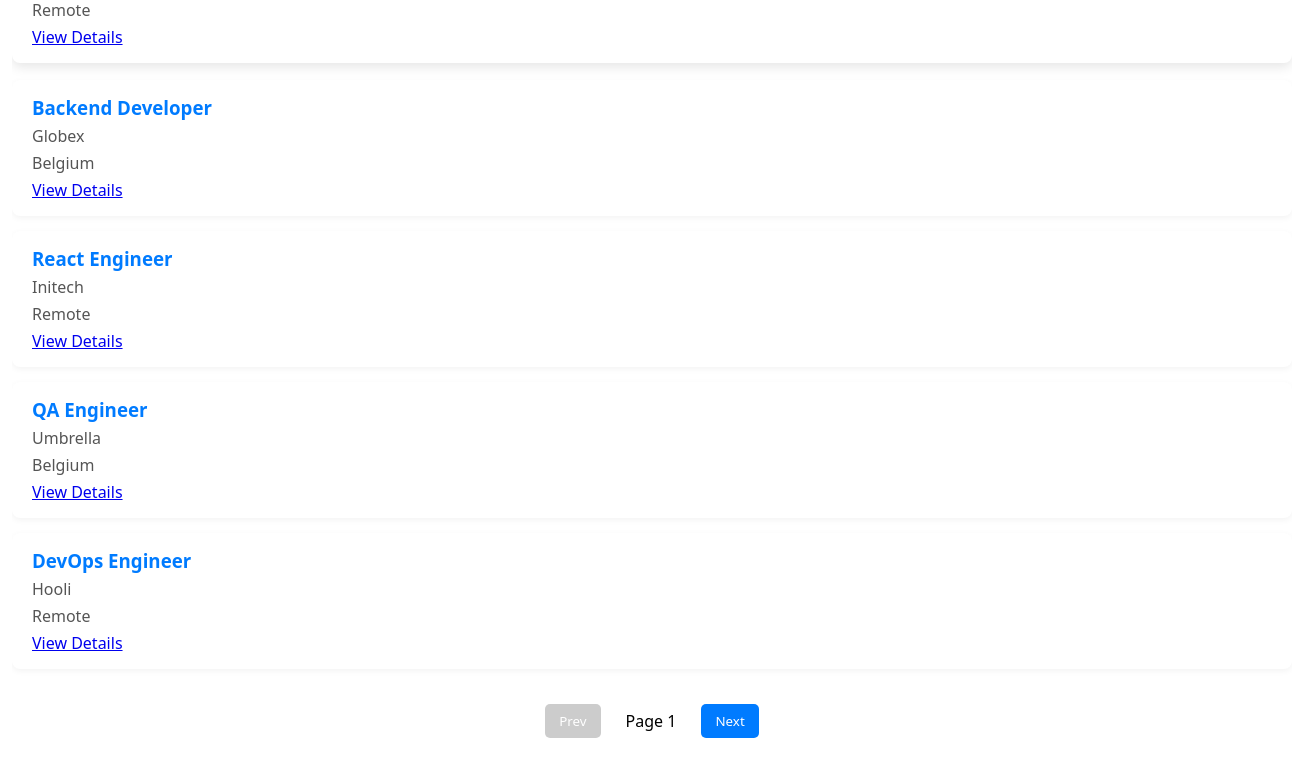
JobList › shows 5 jobs per page and lets you go to the next page
(page scrolled)
Expected: the number of links "View Details" is 5, [32, 26, 122, 48]; [32, 179, 122, 201]; [32, 330, 122, 352]; [32, 481, 122, 503]; [32, 632, 122, 654]
Expected: the text "Data Analyst" is not shown
Click the button "Next".
click(730, 721)  # box [702, 704, 759, 738]
(page scrolled)
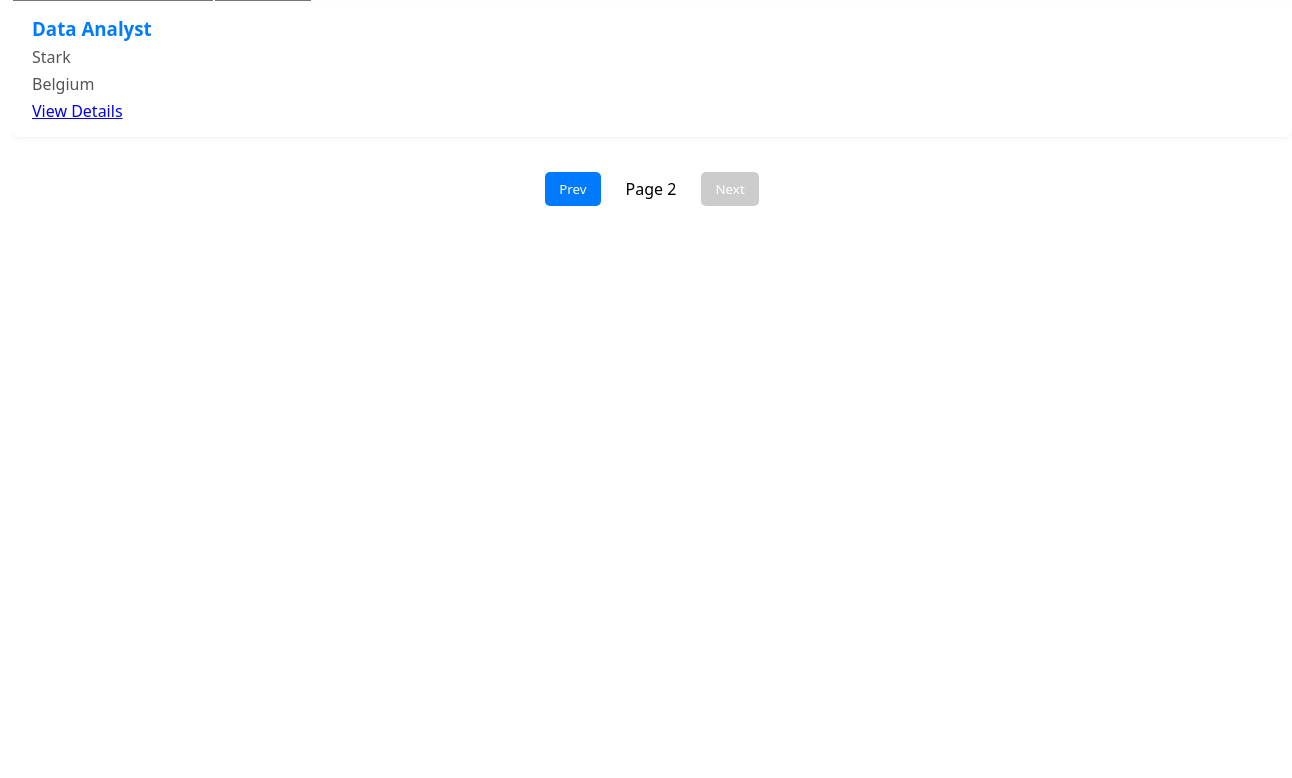
Now the heading "Data Analyst" is shown, box [32, 16, 152, 41]
Now the number of links "View Details" is 1, box [32, 100, 122, 122]
